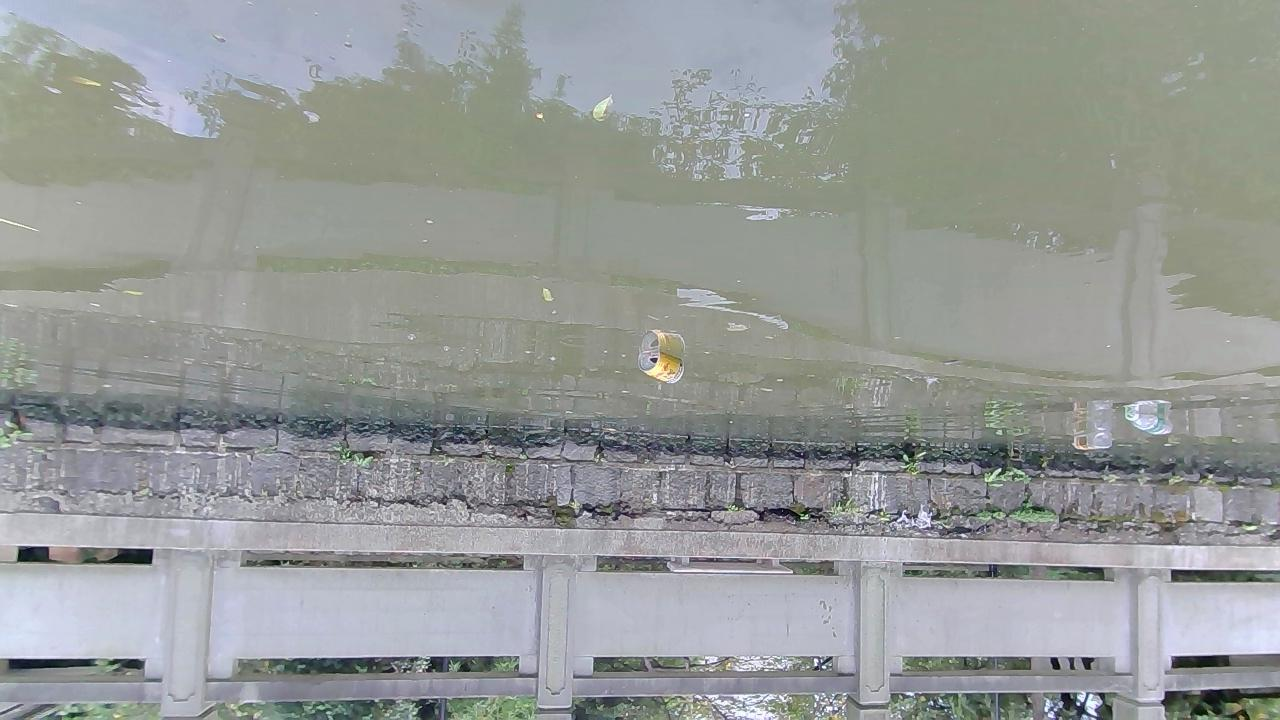Metal: (637, 351, 685, 385)
Plastic: (1124, 412, 1174, 436), (1070, 431, 1113, 450)
